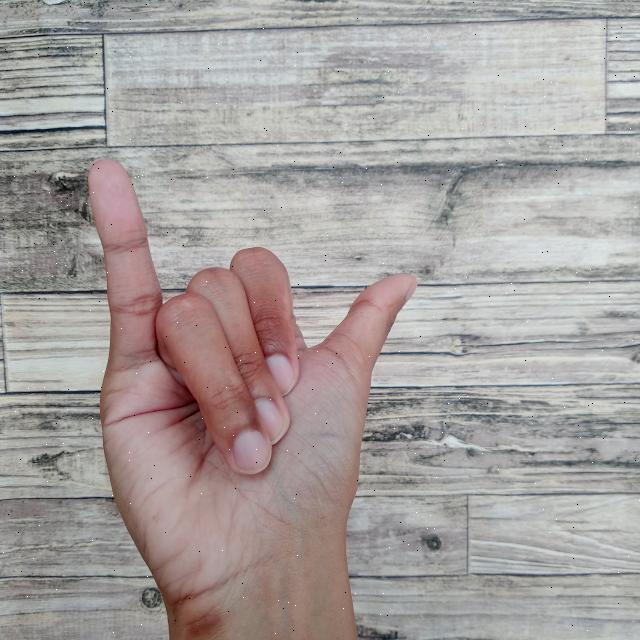Y: (69, 144, 428, 640)
